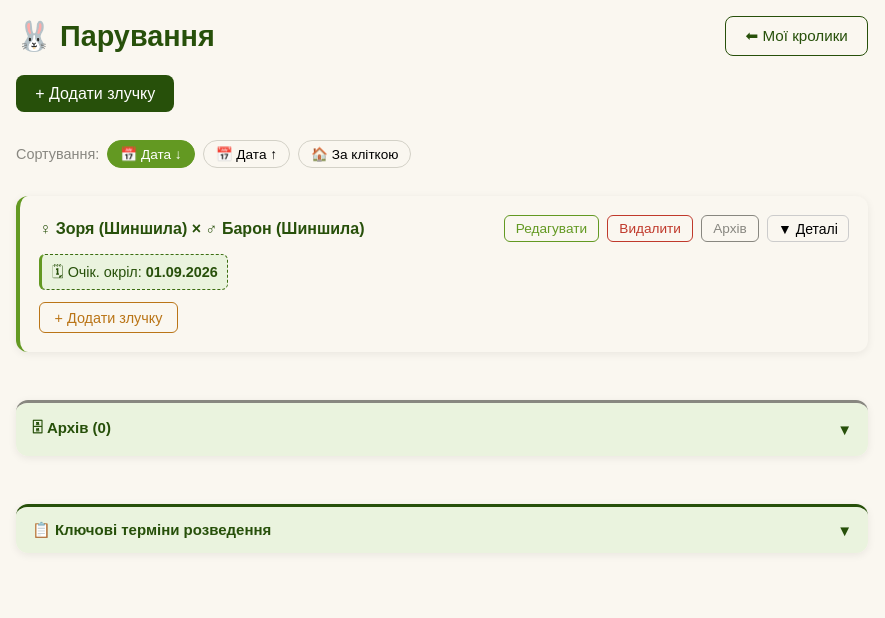
Test: Matings: дії › видалення злучки: помилка показується, злучка лишається
Click the button "Видалити". click: (650, 229)
box: [607,215,693,242]
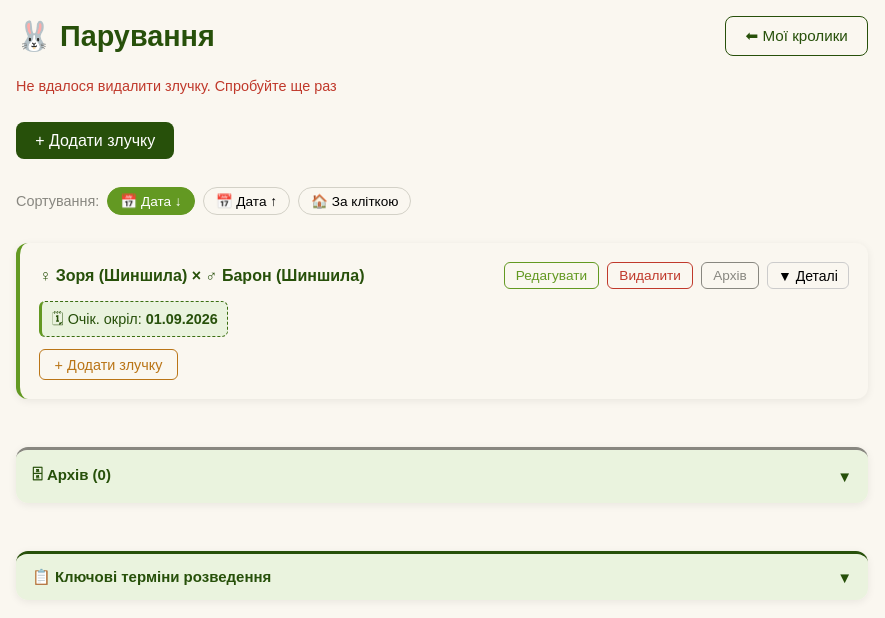
Expected: the text "♀ Зоря (Шиншила) × ♂ Барон (Шиншила)" is shown, [39,263,364,289]
Expected: the text "Не вдалося видалити злучку. Спробуйте ще раз" is shown, [16,78,337,94]
